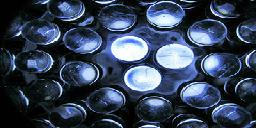LED: (58, 61, 102, 89), (85, 85, 123, 117), (124, 64, 162, 96), (155, 43, 194, 73), (112, 35, 150, 62)
